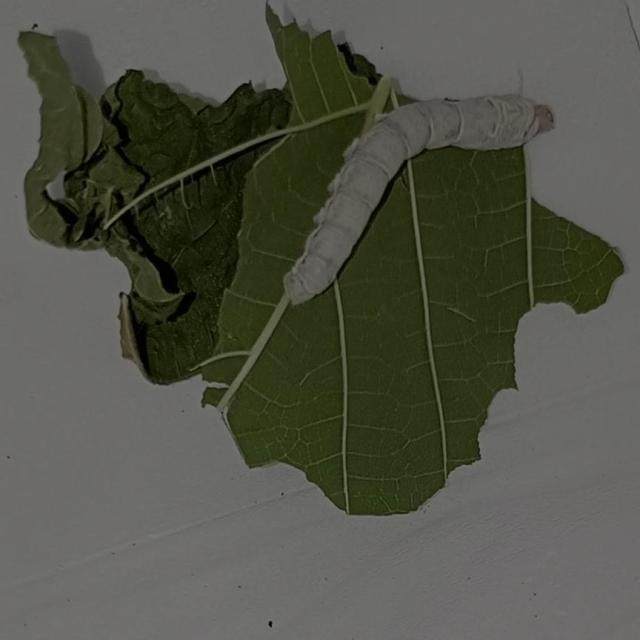Healthy: (264, 41, 568, 352)
